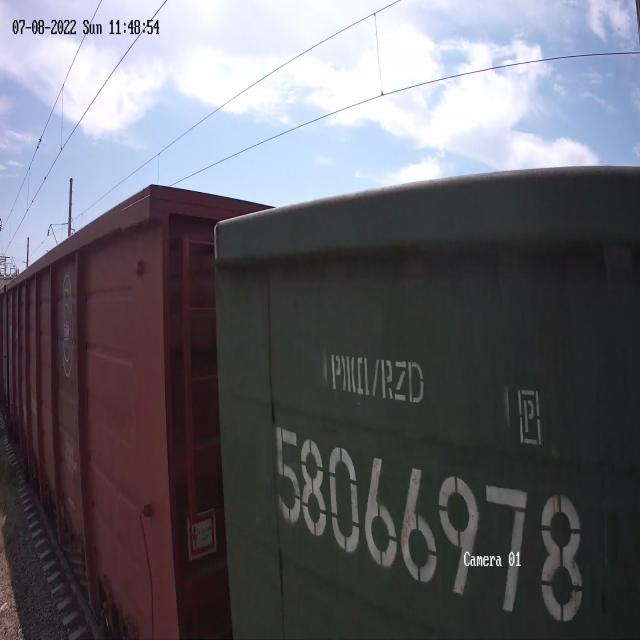gondola: (201, 125, 640, 640), (0, 172, 228, 640)
